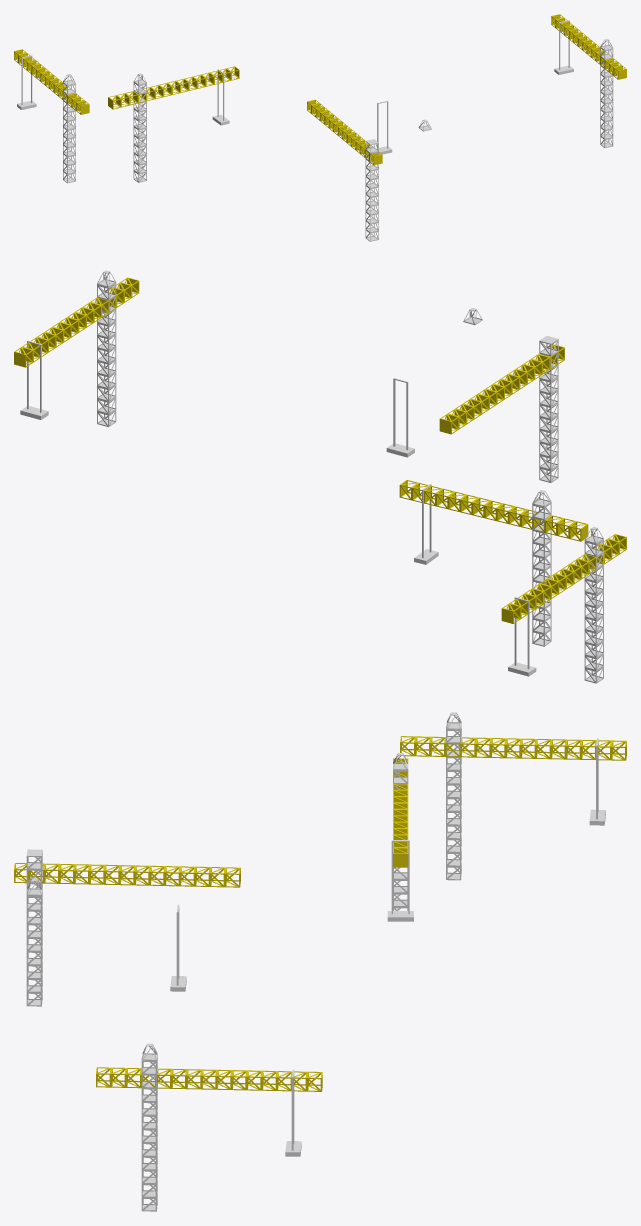
Rendered from cranes.fbx.
3 renders of one model, top to bottom at view 1: azimuth 30°, elevation 25°; view 2: azimuth 150°, elevation 25°; view 3: azimuth 270°, elevation 25°, orthographic. The views are drawn at different scales.
Parts seen in each view (by area): view 1: Cube.008, Cube.213, Cube.208, Cube.218, Cube.212, Cube.007, Cube.207, Cube.217; view 2: Cube.008, Cube.213, Cube.208, Cube.218, Cube.212, Cube.217, Cube.207, Cube.007; view 3: Cube.218, Cube.213, Cube.208, Cube.207, Cube.212, Cube.217, Cube.008, Cube.007.
Boxes of the visible parts, <box> form: Cube.008: <box>108,66,239,109</box>; Cube.213: <box>307,99,382,165</box>; Cube.208: <box>551,14,626,79</box>; Cube.218: <box>14,49,89,114</box>; Cube.212: <box>365,139,378,241</box>; Cube.007: <box>133,82,146,182</box>; Cube.207: <box>600,47,613,148</box>; Cube.217: <box>63,83,75,183</box>; Cube.008: <box>399,480,588,541</box>; Cube.213: <box>439,344,564,434</box>; Cube.208: <box>14,277,139,367</box>; Cube.218: <box>501,534,626,623</box>; Cube.212: <box>539,336,558,482</box>; Cube.217: <box>584,539,603,683</box>; Cube.207: <box>97,283,116,427</box>; Cube.007: <box>532,502,551,646</box>; Cube.218: <box>400,736,626,760</box>; Cube.213: <box>14,863,240,887</box>; Cube.208: <box>96,1067,322,1091</box>; Cube.207: <box>141,1056,157,1211</box>; Cube.212: <box>26,849,42,1006</box>; Cube.217: <box>446,726,461,880</box>; Cube.008: <box>393,758,408,867</box>; Cube.007: <box>393,770,408,910</box>.
Size of the model in its own units: 10791 by 2390 by 8123.
